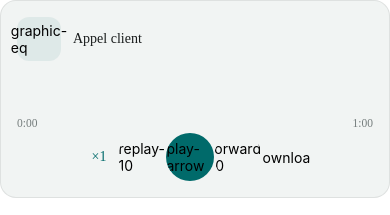
Scenario: médias › audio : ±15 s et bascule lecture / pause
What coordinates should you click on to do the following:
click the button with aria-label "Avancer de 15 secondes"
I would click on:
 (238, 157)
Its box is [214,133,262,181].
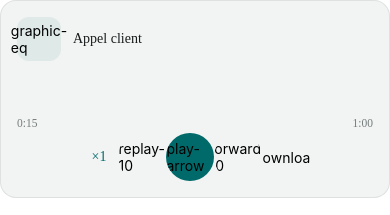
Expected: the text "0:15" is shown, [17,117,38,129]
What coordinates should you click on to do the following:
click the button with aria-label "Reculer de 15 secondes"
I would click on:
 (142, 157)
Its box is [118,133,166,181].
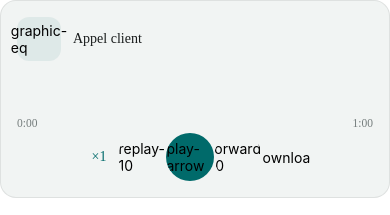
Expected: the text "0:00" is shown, [17,117,38,129]
What coordinates should you click on to do the following:
click the button with aria-label "Lire, Appel client"
I would click on:
 (190, 157)
Its box is [166,133,214,181].
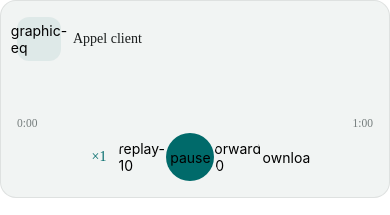
What coordinates should you click on to do the following:
click the button with aria-label "Pause, Appel client"
I would click on:
 (190, 157)
Its box is [166,133,214,181].
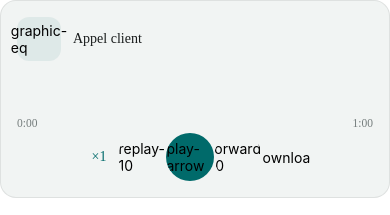
Expected: the button with aria-label "Lire, Appel client" is shown, [166,133,214,181]
